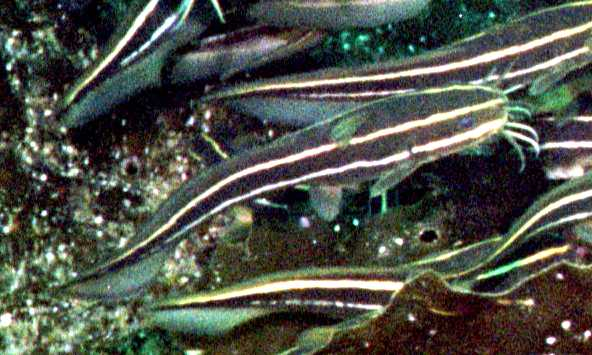gonzui: (66, 75, 511, 282)
